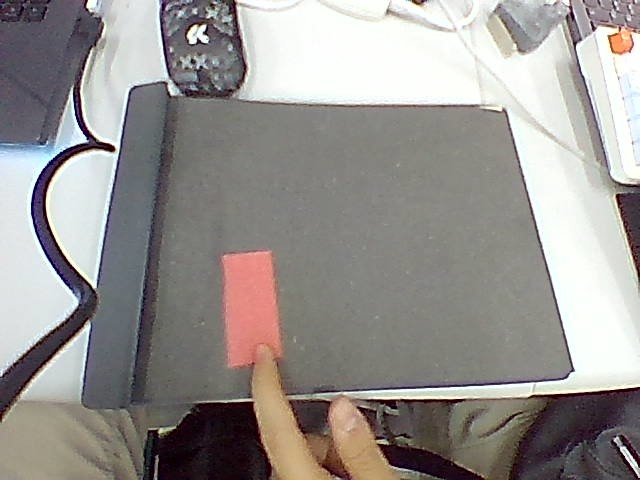card: (223, 252, 280, 365)
